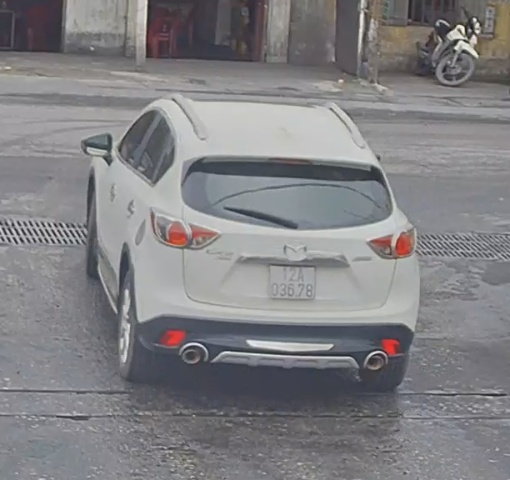vehicle plate: (266, 259, 320, 304)
